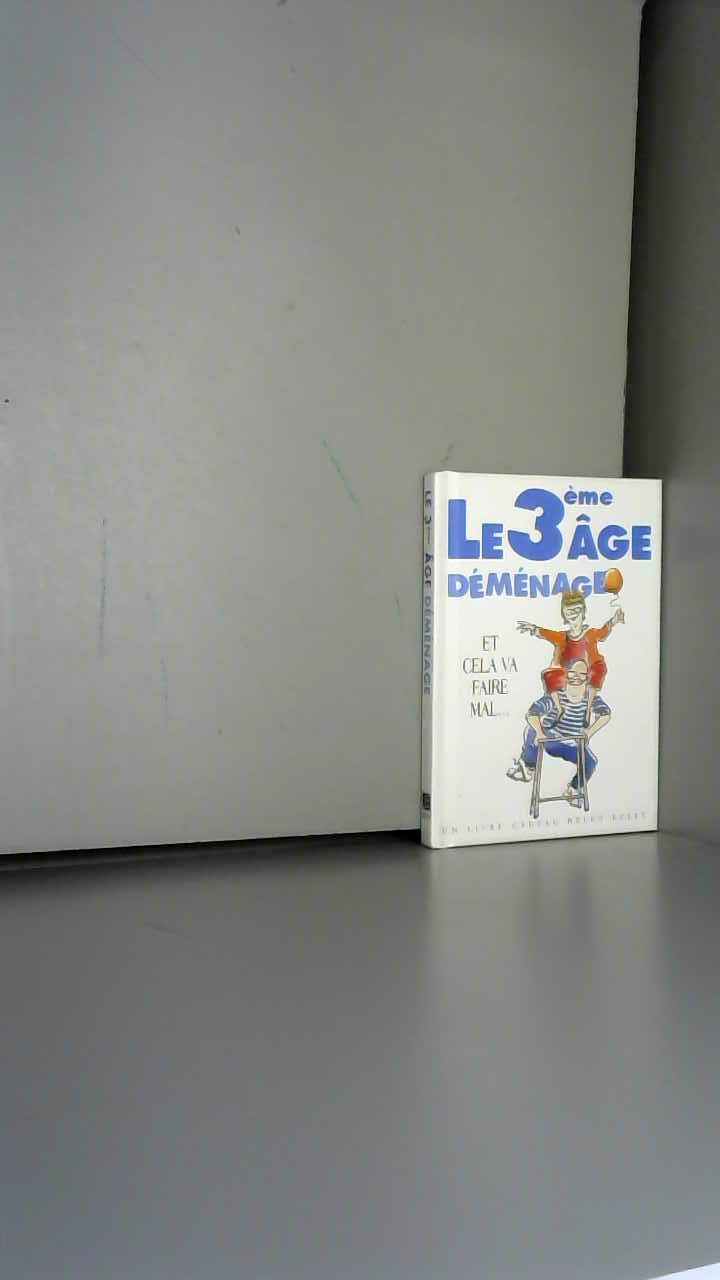book: (400, 440, 716, 866)
